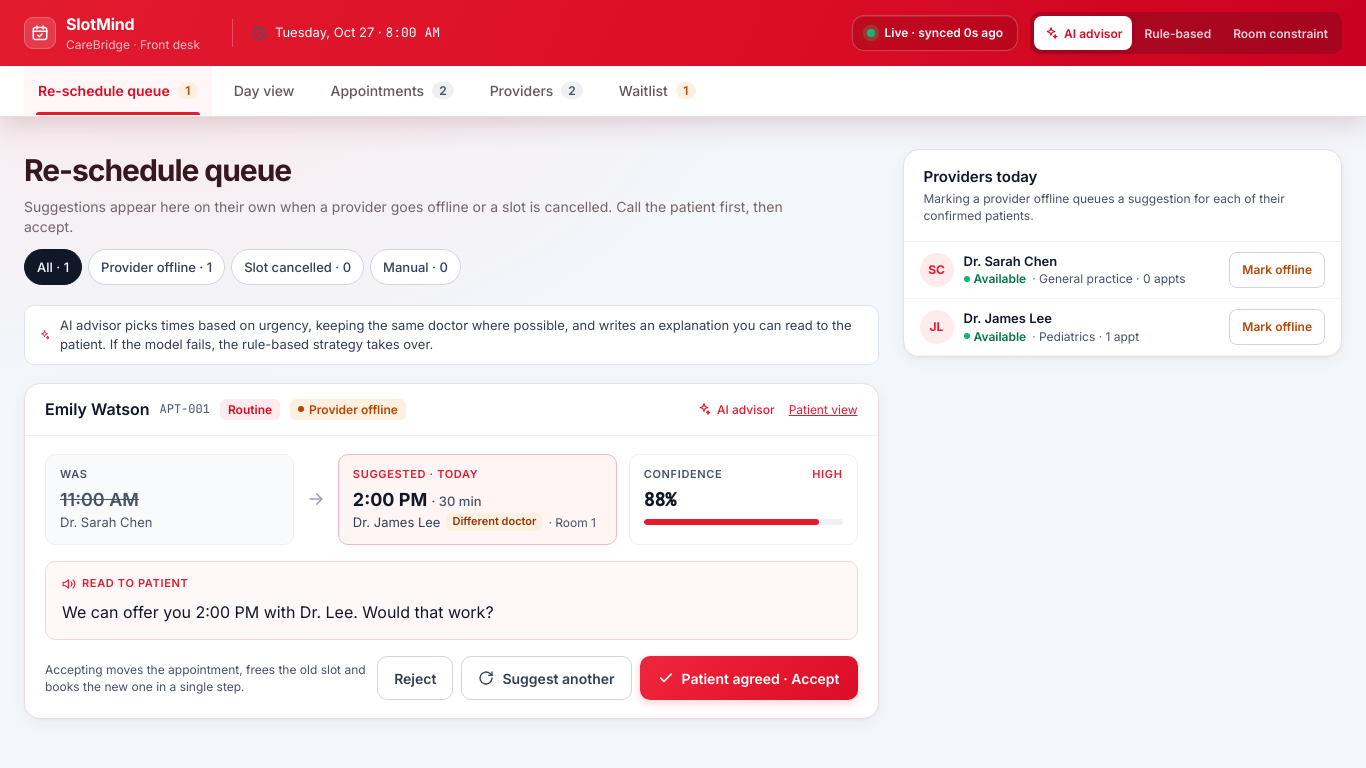
Scenario: Desk shell › strategy switch: aria-pressed, PUT /config/strategy and a toast
Expected: the heading "Re-schedule queue" is shown, left=24, top=152, right=291, bottom=188
Click the button "AI advisor": click(1083, 33) left=1034, top=16, right=1132, bottom=50
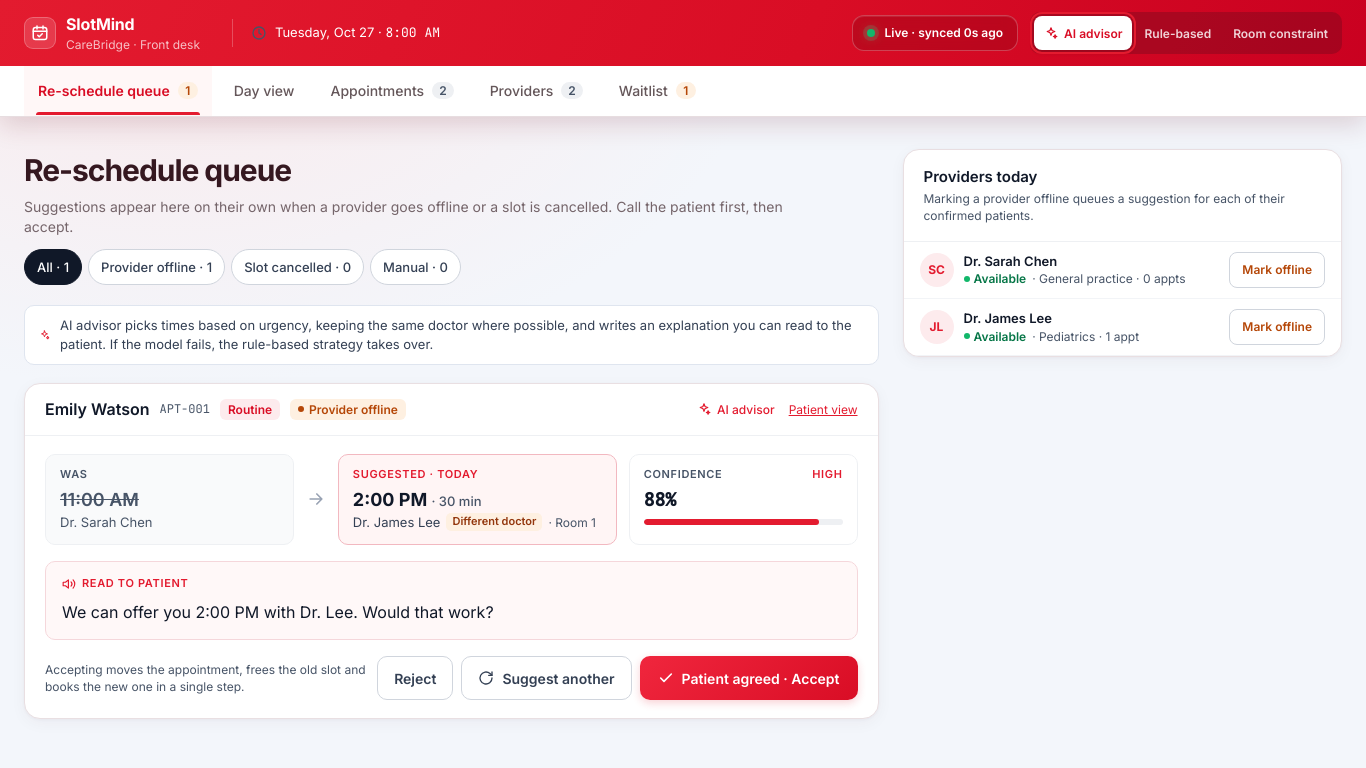
Click the button "Rule-based": click(1178, 33) left=1134, top=16, right=1221, bottom=50
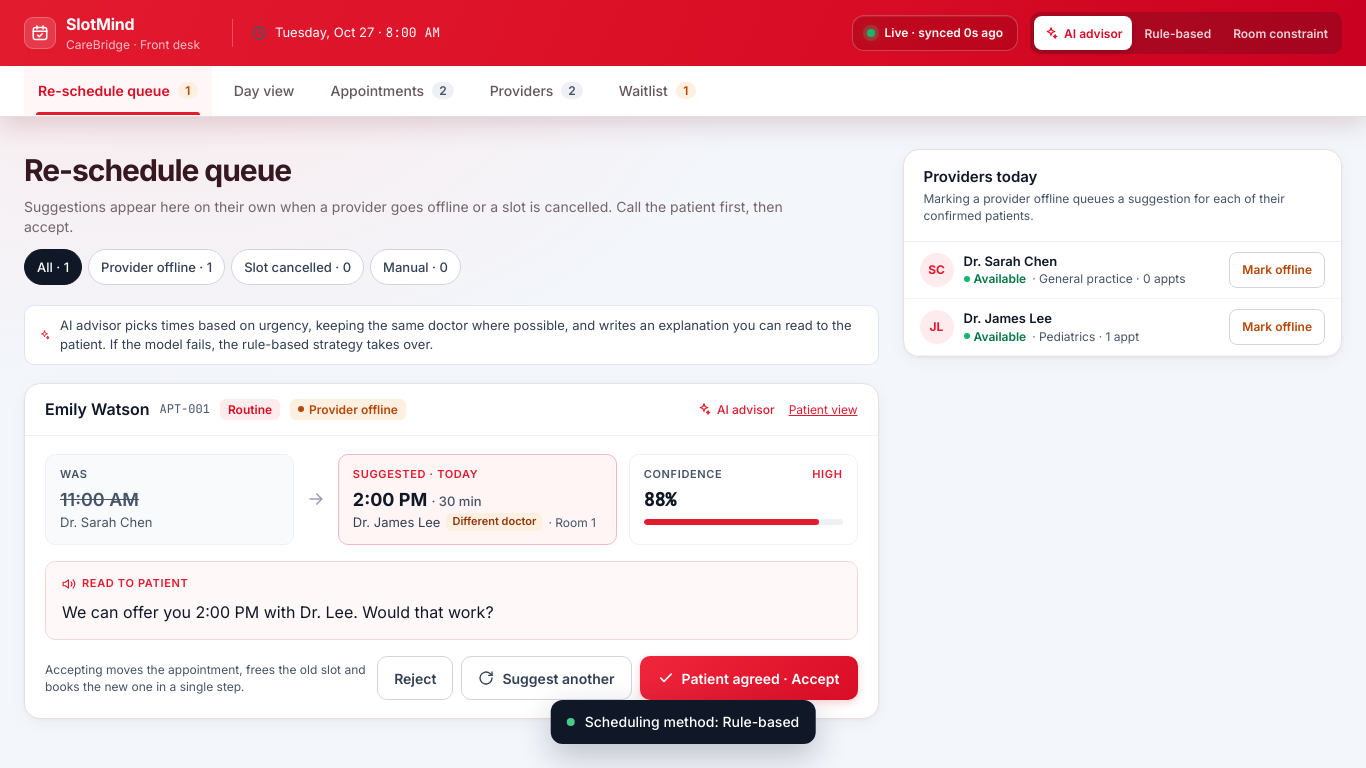
Expected: the text "Scheduling method: Rule-based" is shown, left=585, top=712, right=799, bottom=732
